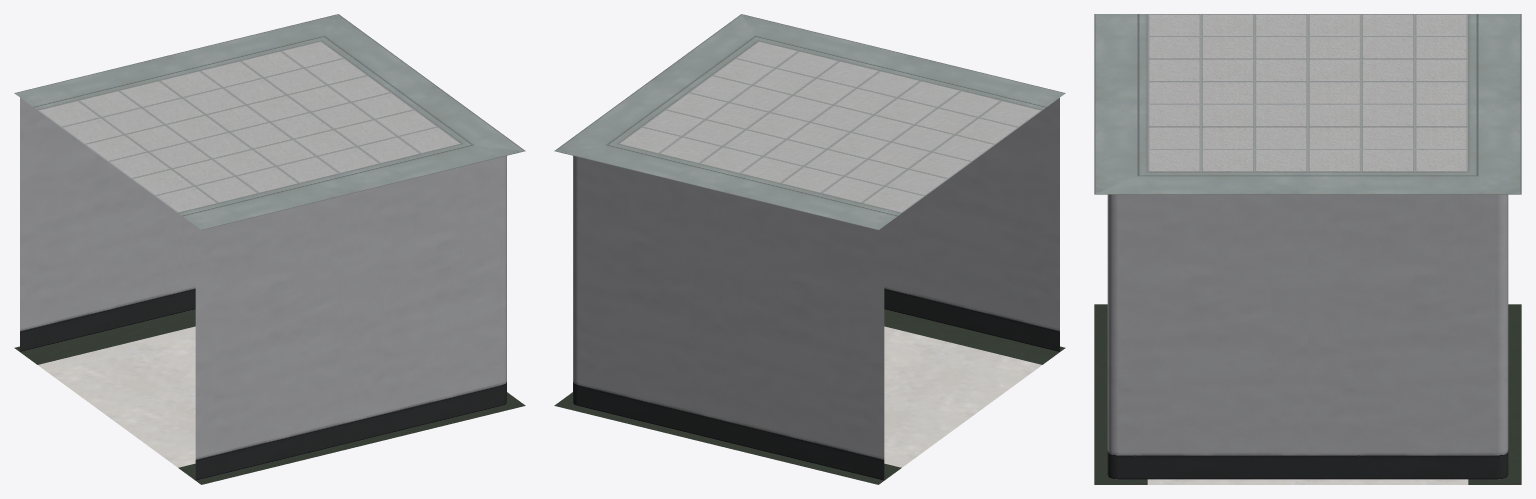
The model's file is Corridor_ThreeWalls.fbx.
3 renders of one model, left to right at view 1: azimuth 30°, elevation 25°; view 2: azimuth 150°, elevation 25°; view 3: azimuth 270°, elevation 25°, orthographic. The views are drawn at different scales.
Visible parts, largest first — view 1: Wall_Half (×2), Ceiling_U, Wall_L_Half (×2), Marble_Floor_I; view 2: Wall_Half (×2), Ceiling_U, Wall_L_Half (×2), Marble_Floor_I; view 3: Wall_L_Half (×2), Ceiling_U, Marble_Floor_I.
Part boxes in pixels (x1=…): Wall_Half (×2): x1=20, y1=98, x2=357, y2=480; Ceiling_U: x1=14, y1=14, x2=525, y2=230; Wall_L_Half (×2): x1=182, y1=156, x2=506, y2=440; Marble_Floor_I: x1=14, y1=309, x2=525, y2=484; Wall_Half (×2): x1=722, y1=98, x2=1059, y2=480; Ceiling_U: x1=554, y1=14, x2=1065, y2=230; Wall_L_Half (×2): x1=573, y1=156, x2=897, y2=440; Marble_Floor_I: x1=554, y1=309, x2=1065, y2=484; Wall_L_Half (×2): x1=1107, y1=194, x2=1508, y2=479; Ceiling_U: x1=1094, y1=14, x2=1521, y2=194; Marble_Floor_I: x1=1094, y1=304, x2=1521, y2=484.
Bounding box in the file's own units: 4 × 3 × 4.
4 materials, 4 textured.
